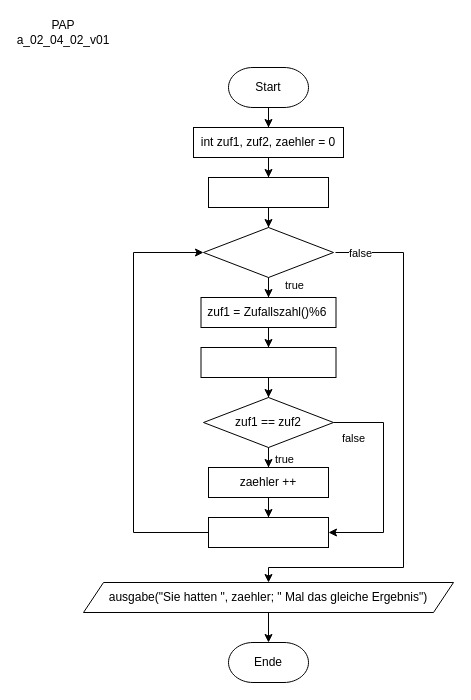
Image size: 471x700. Some labels were removed from this diagram. Each missing label, with the centre of its shape:
"i ++" belongs at pixel 268 532.
"i < 6000" belongs at pixel 268 252.
"int i = 0" belongs at pixel 268 192.
"zuf2 = Zufallszahl()%6" belongs at pixel 268 362.
